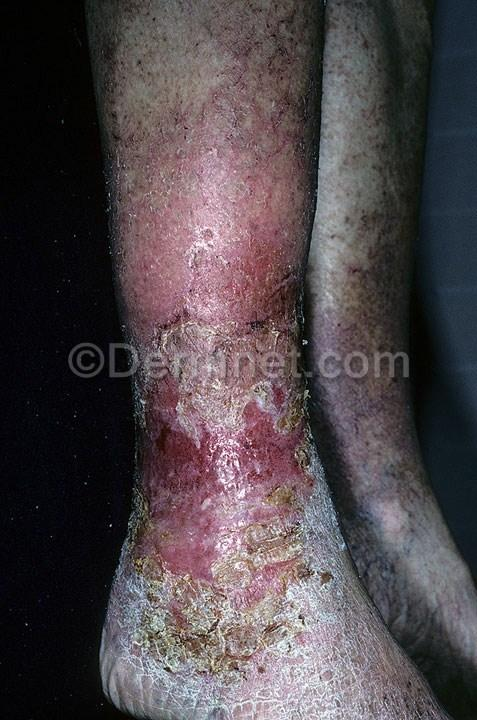Eczema: (105, 14, 300, 340), (116, 388, 320, 668), (295, 35, 393, 341), (316, 385, 435, 561)
